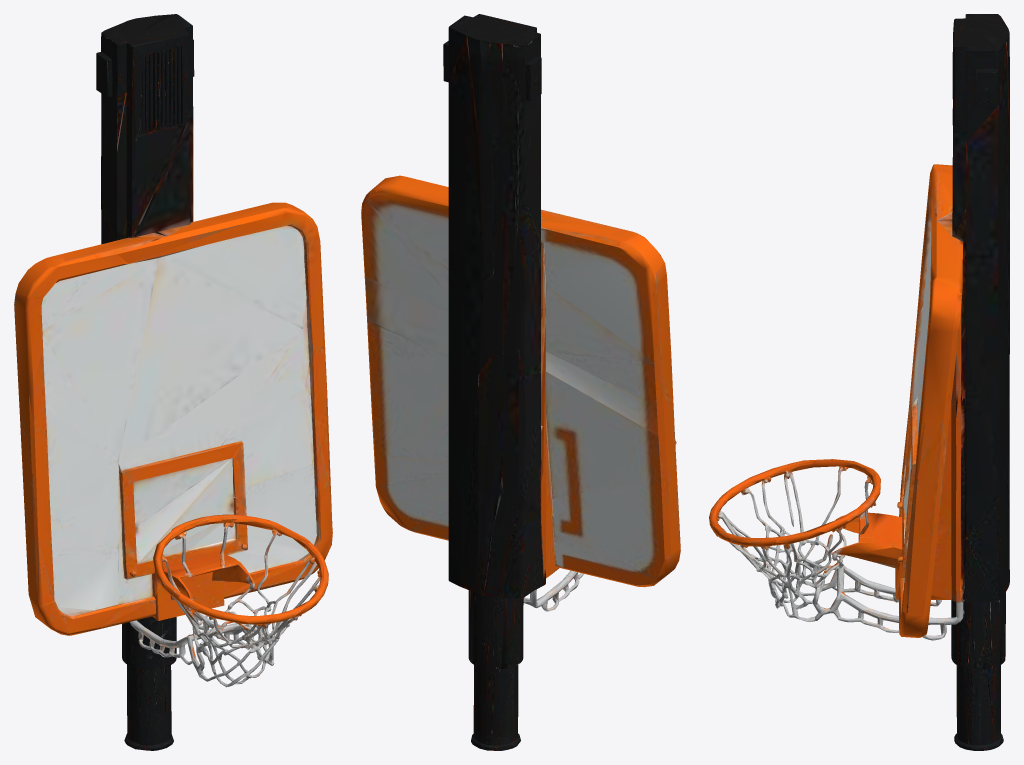
File: hoop.glb
The picture shows the model from 3 angles, left to right: view 1: azimuth 30°, elevation 25°; view 2: azimuth 150°, elevation 25°; view 3: azimuth 270°, elevation 25°; orthographic projection.
Bounding box in the file's own units: 0.8279 × 1.9 × 0.7324.
Materials: 1 (1 with a texture image).
